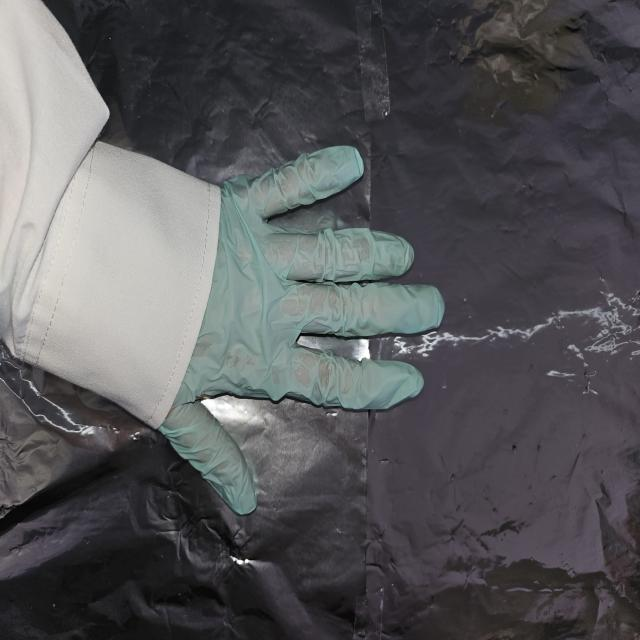gloves_damaged: (154, 145, 446, 518)
